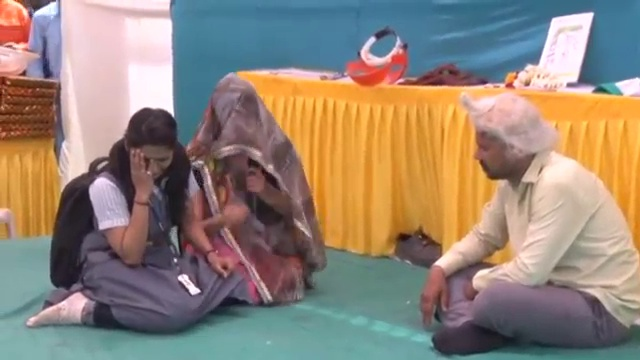helmet: (0, 46, 39, 77)
helmet_off: (465, 95, 550, 188), (119, 101, 184, 185), (214, 80, 264, 145)
person: (413, 90, 640, 333), (31, 109, 222, 333), (180, 74, 316, 299), (28, 3, 66, 81)
